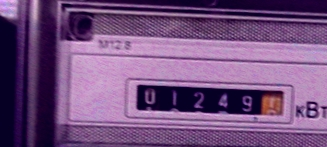0: (141, 86, 156, 107)
1: (166, 88, 178, 108)
2: (190, 91, 205, 112)
4: (215, 92, 228, 112)
7: (263, 91, 277, 111)
9: (238, 94, 252, 116)
screen: (114, 71, 292, 131)
